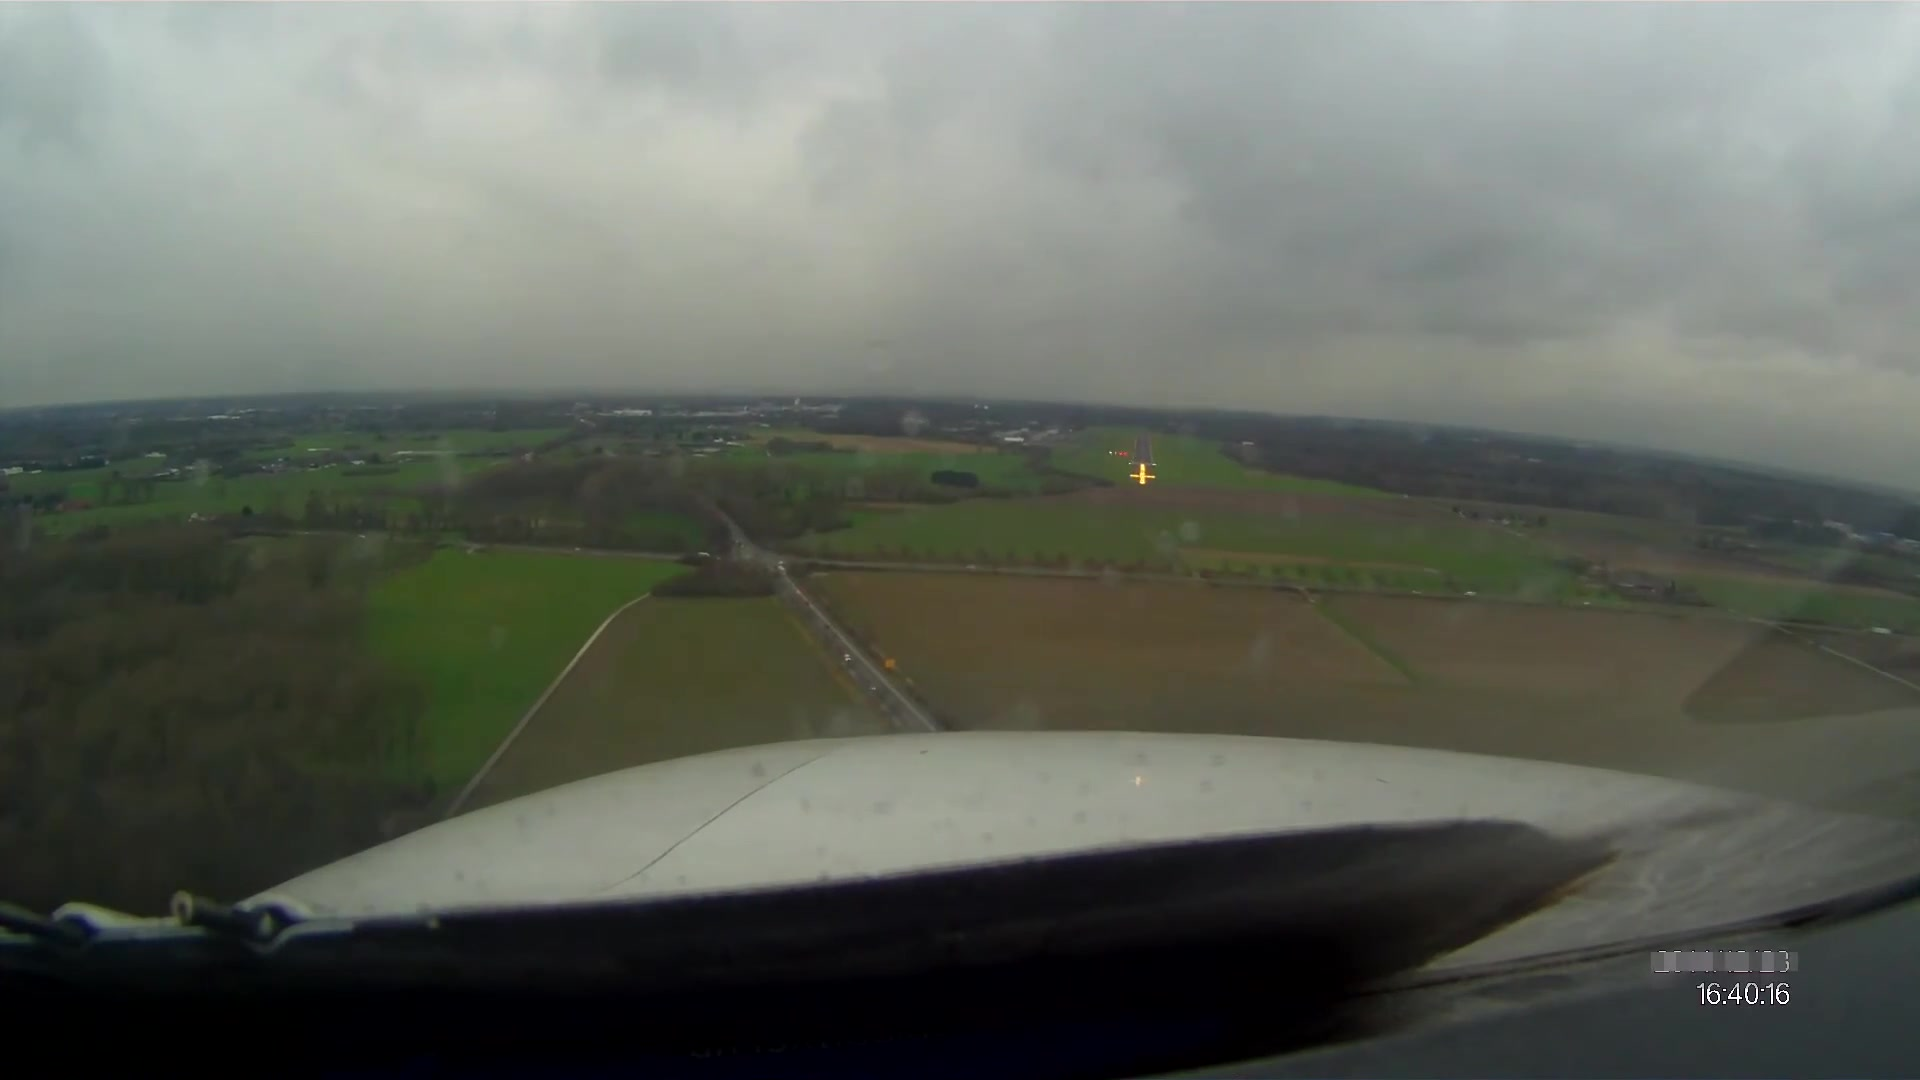runway: (1130, 435, 1155, 471)
